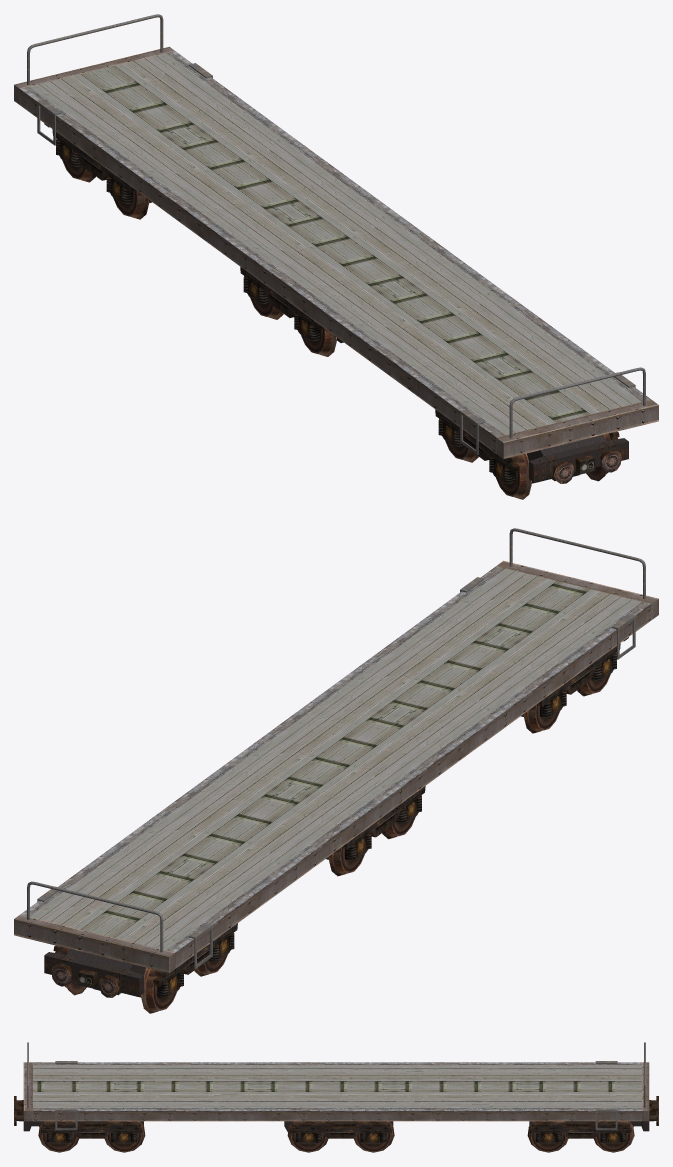
Rendered from Model_Trains_Carriage_Transport_Container.fbx.
3 renders of one model, top to bottom at view 1: azimuth 30°, elevation 25°; view 2: azimuth 150°, elevation 25°; view 3: azimuth 270°, elevation 25°, orthographic. The views are drawn at different scales.
Parts seen in each view (by area): view 1: Train_Carriage_Transport_Container_LOD0; view 2: Train_Carriage_Transport_Container_LOD0; view 3: Train_Carriage_Transport_Container_LOD0.
Part boxes in pixels (x1,y1,x2,y2): Train_Carriage_Transport_Container_LOD0: [14, 14, 658, 499]; Train_Carriage_Transport_Container_LOD0: [14, 528, 658, 1013]; Train_Carriage_Transport_Container_LOD0: [14, 1042, 658, 1152].
Size of what is drawn, in the model's own units: 274 by 205 by 1513.
